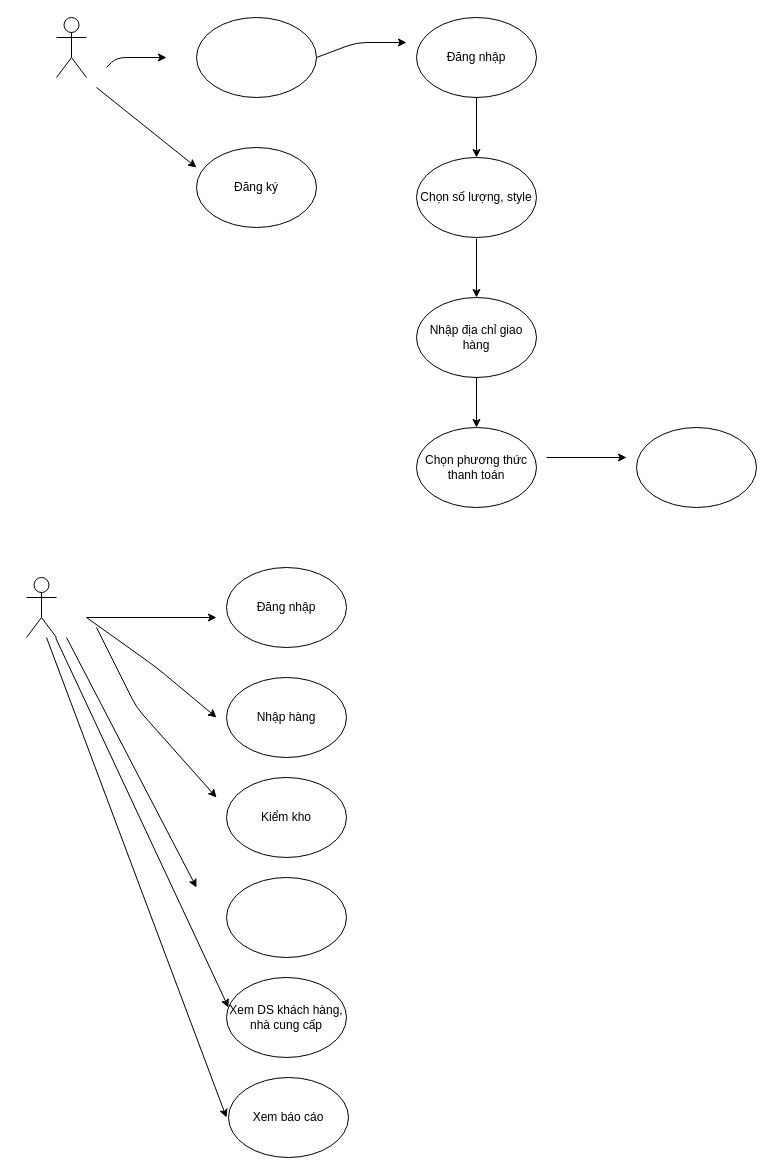
This 774x1175 diagram has some shape labels left out. Each missing label, with the box of its shape:
Chọn sản phẩm: (196, 16, 316, 98)
chủ shop: (26, 576, 56, 638)
Khách hàng: (56, 16, 86, 78)
Xem hóa đơn: (226, 876, 346, 958)
Xác nhận: (636, 426, 756, 508)
